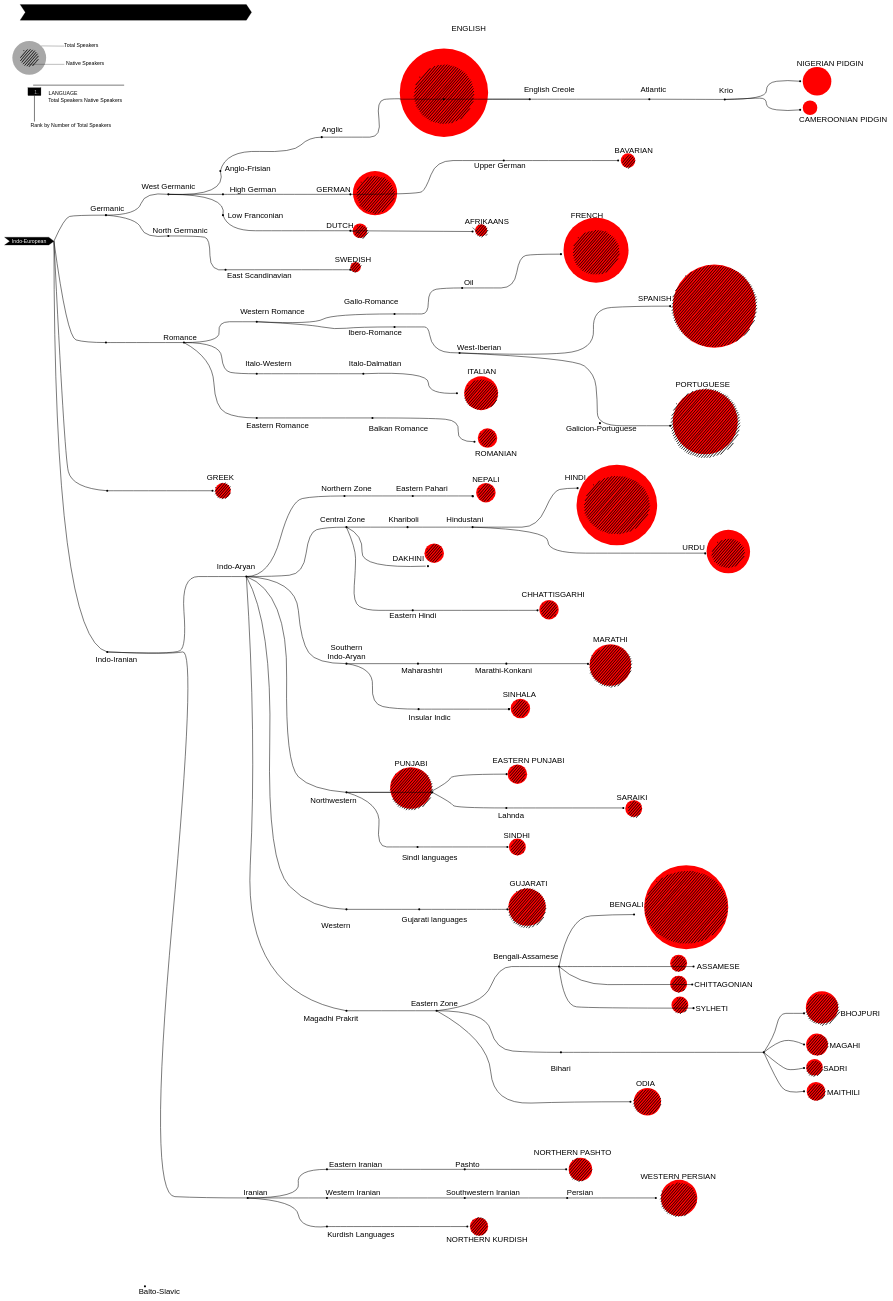
Image size: 893x1301. Some labels were removed from this diagram. Here are the shapes that lost their labels. From the top down, the box of each, then its label:
(20, 4, 252, 20): The 100 Most-Spoken Languages in the World
(100, 337, 111, 348): Italic
(102, 485, 113, 496): Hellenic
